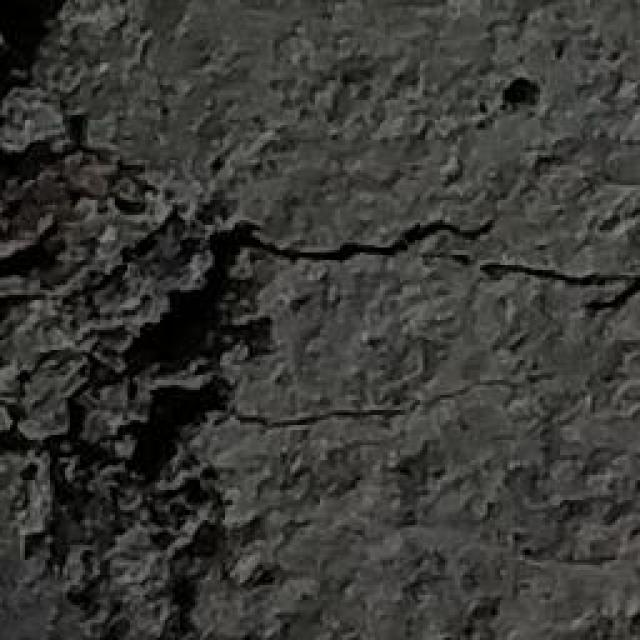Network: (0, 58, 640, 640)
